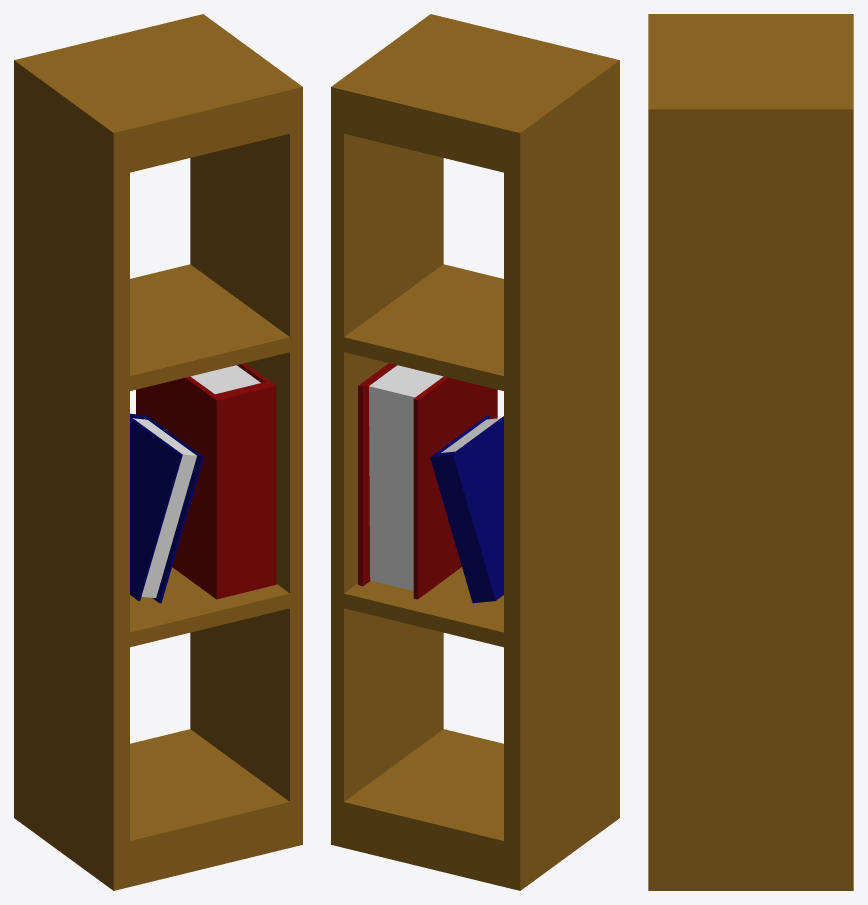
The model's file is Bookcase.fbx.
The picture shows the model from 3 angles, left to right: view 1: azimuth 30°, elevation 25°; view 2: azimuth 150°, elevation 25°; view 3: azimuth 270°, elevation 25°; orthographic projection. The views are drawn at different scales.
Parts seen in each view (by area): view 1: pCube1, pCube2, pCube3; view 2: pCube1, pCube2, pCube3; view 3: pCube1.
Boxes of the visible parts, x1=… form: pCube1: x1=14, y1=14, x2=302, y2=890; pCube2: x1=136, y1=363, x2=276, y2=599; pCube3: x1=130, y1=413, x2=203, y2=603; pCube1: x1=331, y1=14, x2=619, y2=890; pCube2: x1=358, y1=363, x2=497, y2=599; pCube3: x1=430, y1=415, x2=503, y2=603; pCube1: x1=648, y1=14, x2=853, y2=890.
Bounding box in the file's own units: 2.63 × 10.05 × 2.39.
